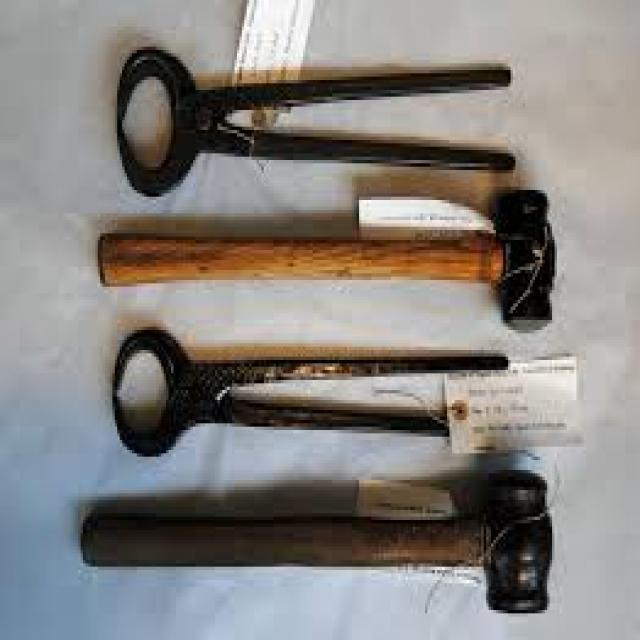hammer: (80, 173, 558, 340), (74, 468, 558, 618)
